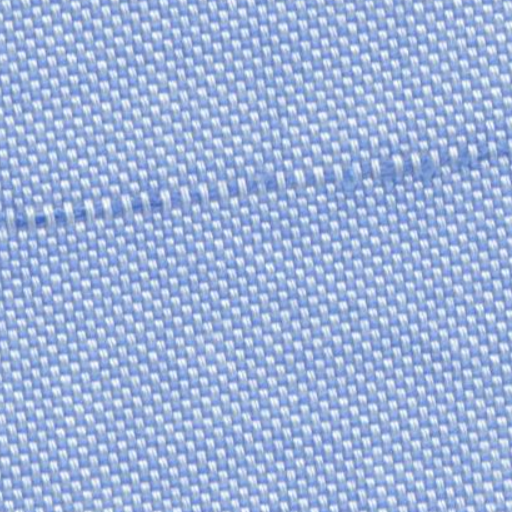DaiSha: (13, 135, 502, 256)
